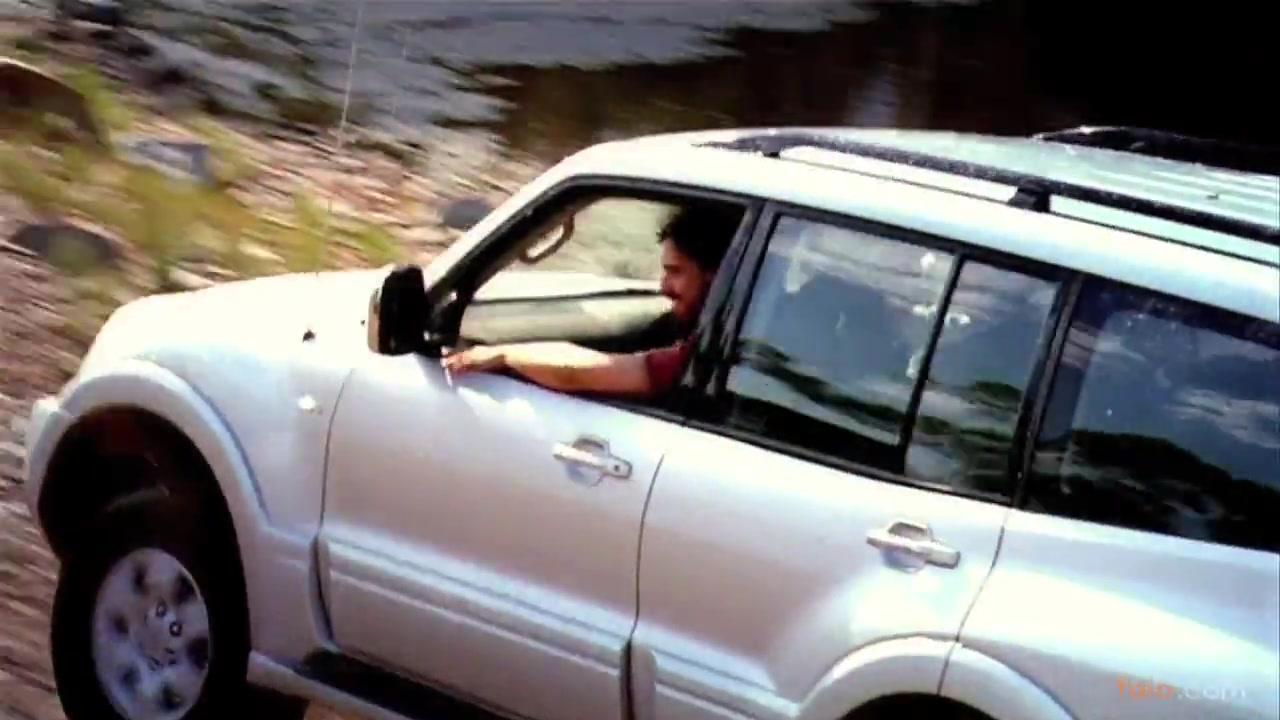car: (1, 125, 1280, 720)
